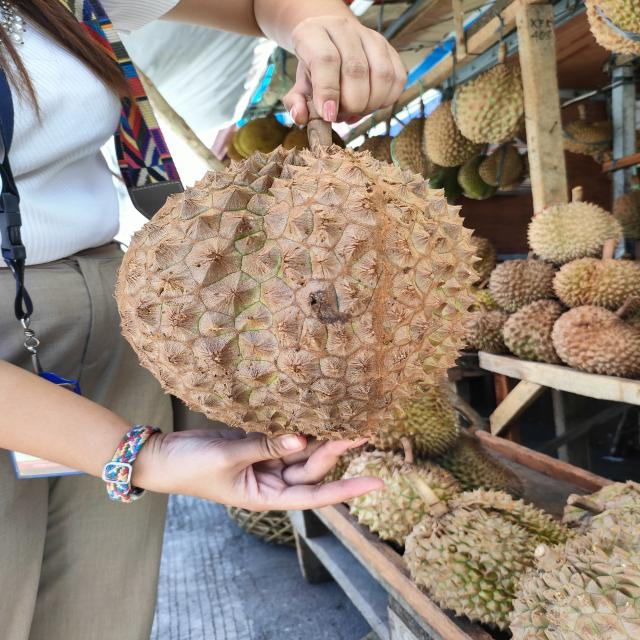mature: (117, 144, 484, 440)
